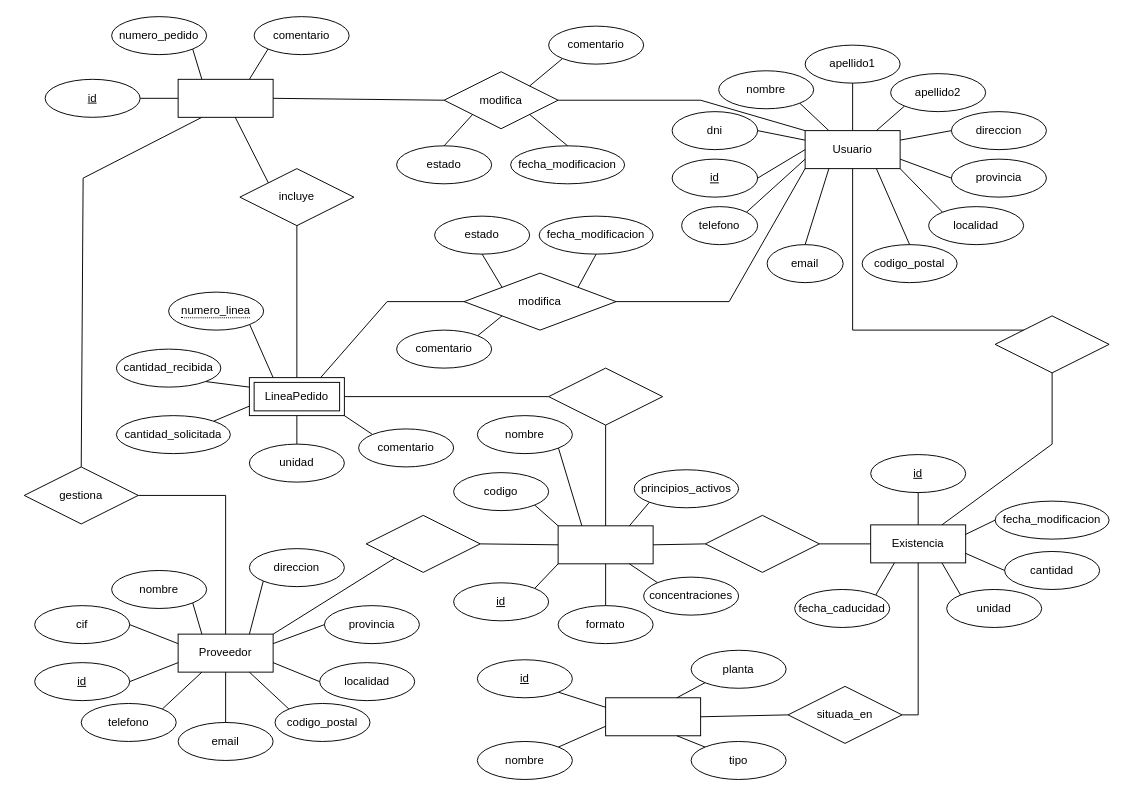
Image size: 1143x809. Some labels were removed from this diagram. Here are the shapes that lost their labels. From the top down, the centre of each, then its label:
At pixel 225 97: "Pedido".
At pixel 1051 344: "modificada_por".
At pixel 605 396: "solicita".
At pixel 422 543: "provee".
At pixel 605 544: "Producto".
At pixel 761 543: "contabiliza".
At pixel 653 716: "Ubicacion".
